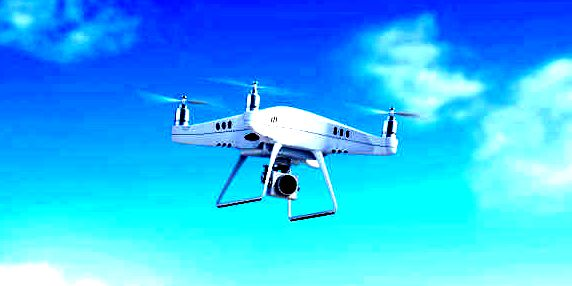Drone: (132, 72, 428, 226)
